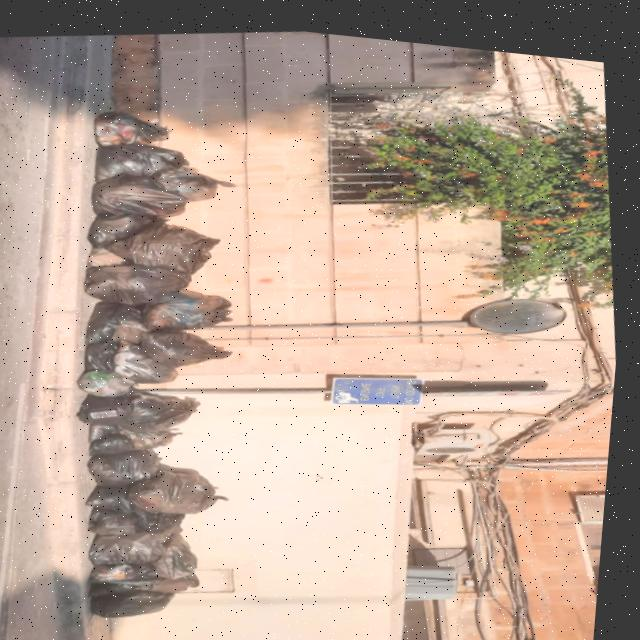Mixed Waste -Black Bag-: (87, 208, 232, 286), (135, 455, 245, 521), (85, 249, 203, 310), (90, 165, 197, 225), (141, 275, 243, 336), (89, 133, 197, 188), (145, 316, 240, 373), (93, 576, 191, 624), (128, 379, 213, 434), (85, 204, 177, 254), (90, 100, 177, 151), (158, 155, 242, 207), (88, 440, 175, 489), (85, 292, 158, 350), (117, 330, 189, 387), (97, 525, 165, 570), (158, 526, 214, 578), (125, 380, 188, 426), (80, 361, 145, 401), (83, 388, 143, 427), (95, 554, 168, 585), (93, 502, 150, 538), (95, 572, 165, 601), (93, 479, 148, 515), (128, 422, 194, 452), (149, 506, 198, 541), (155, 564, 212, 594), (92, 428, 142, 459), (86, 337, 128, 372), (94, 419, 130, 440)
